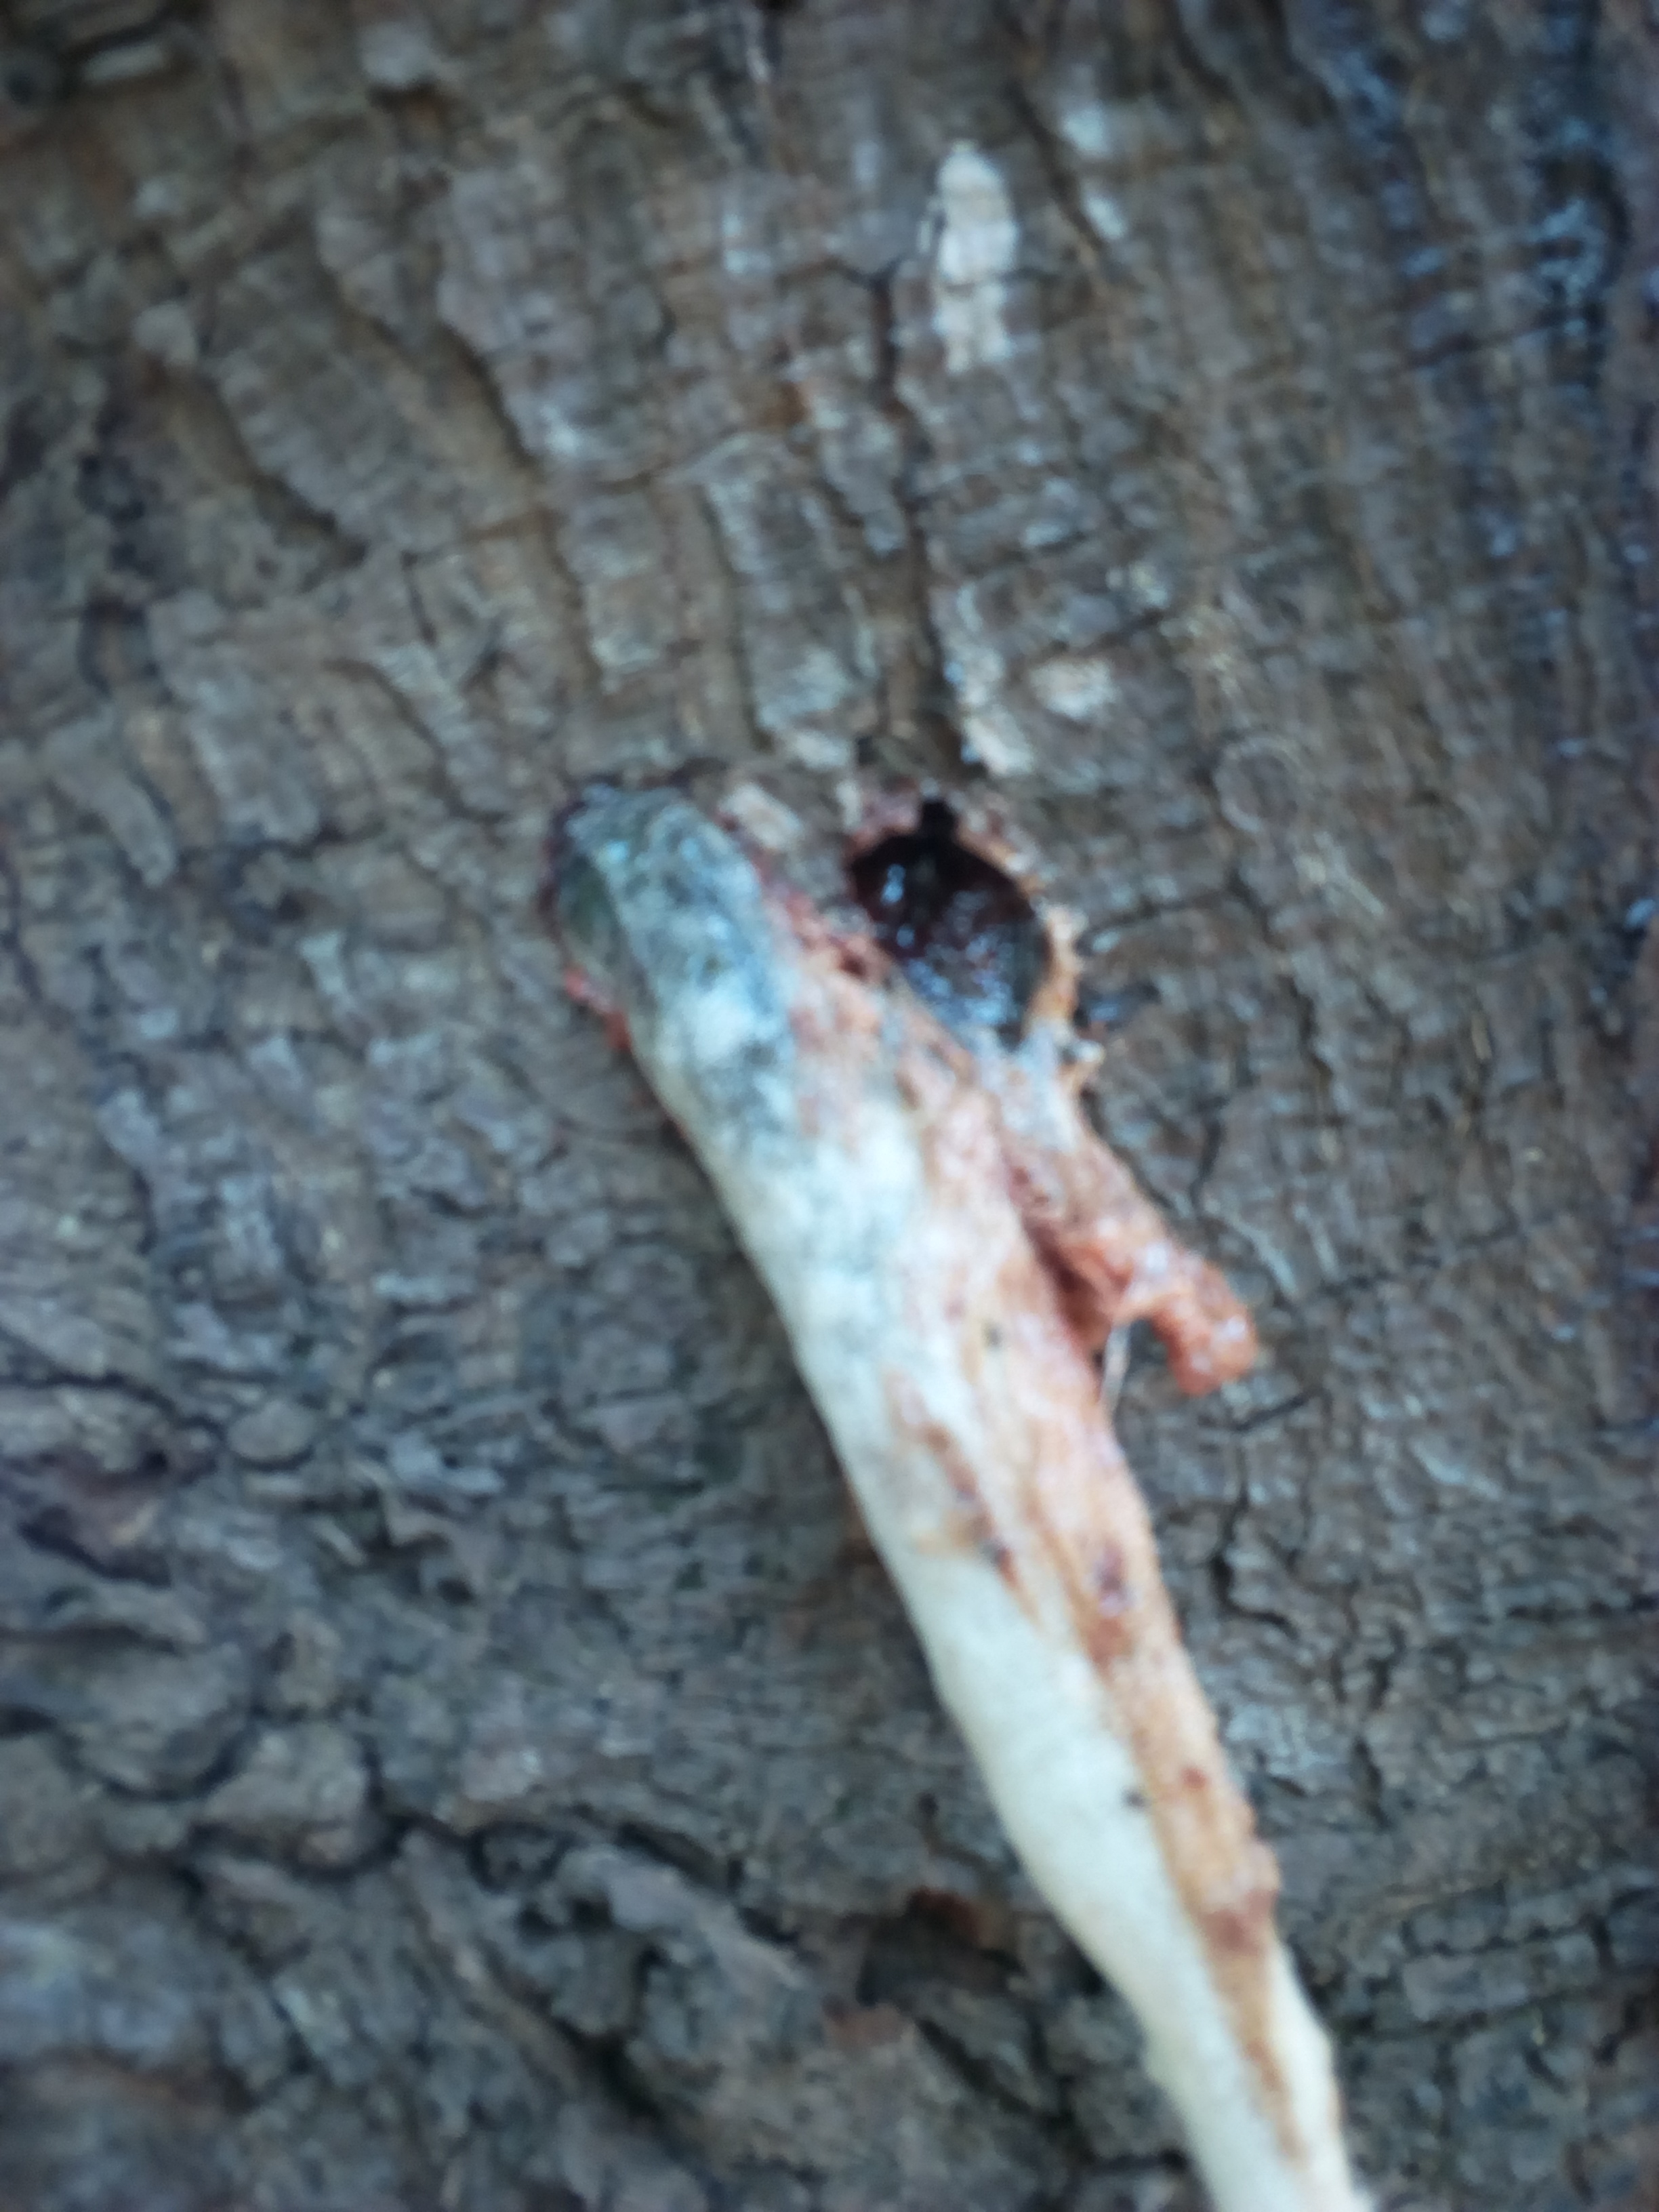Apate terebrans: (477, 766, 1297, 1242)
